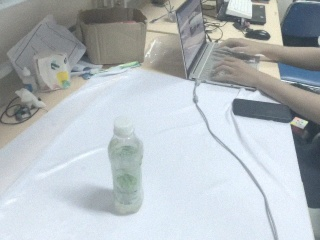bottle: (106, 115, 146, 216)
box: (77, 6, 147, 68)
mouse: (245, 28, 271, 41)
